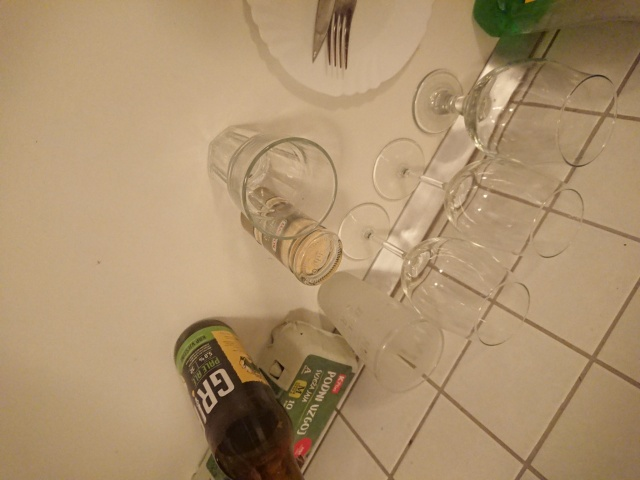Kotanyi Garlic Granules 70g: (238, 185, 346, 288)
